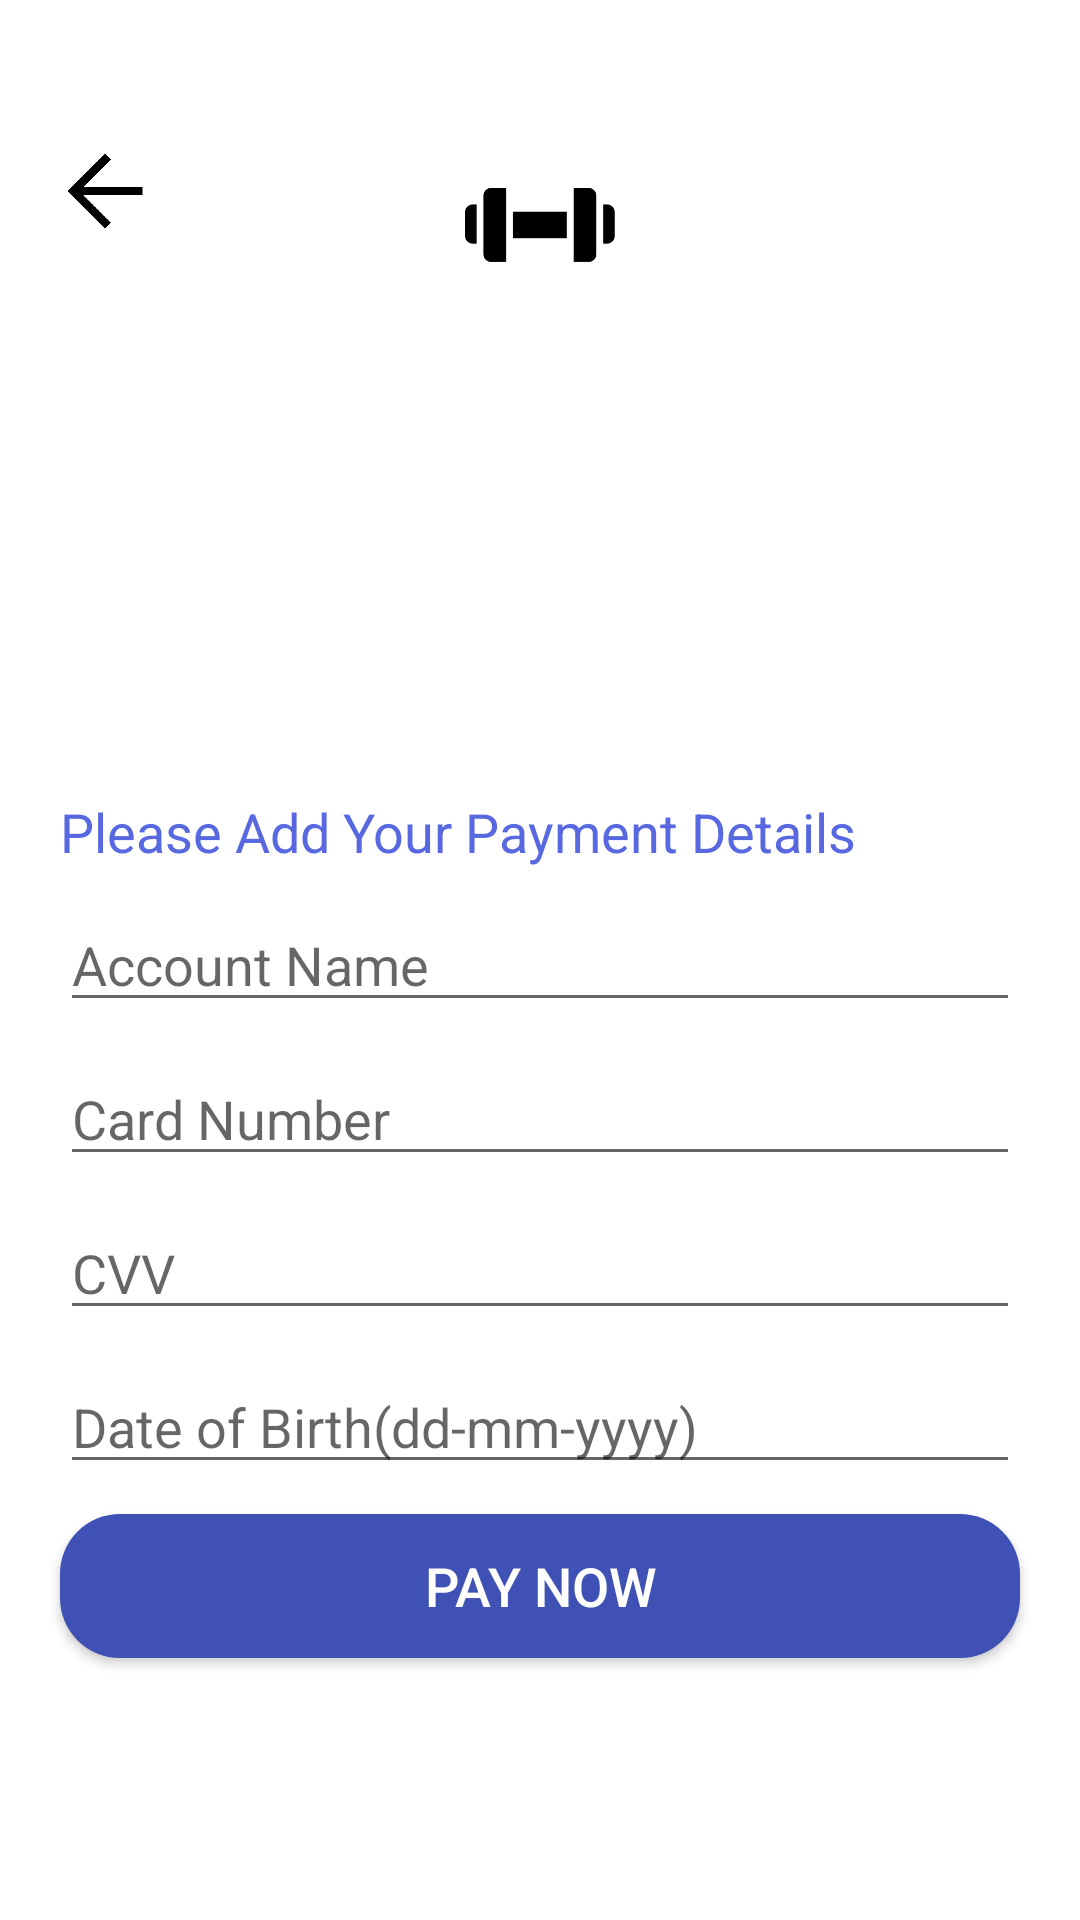

Icons on this 1080×1920 Android screen, each with the point to tap as [x,y]:
back: [105,191]
gym: [540,225]
